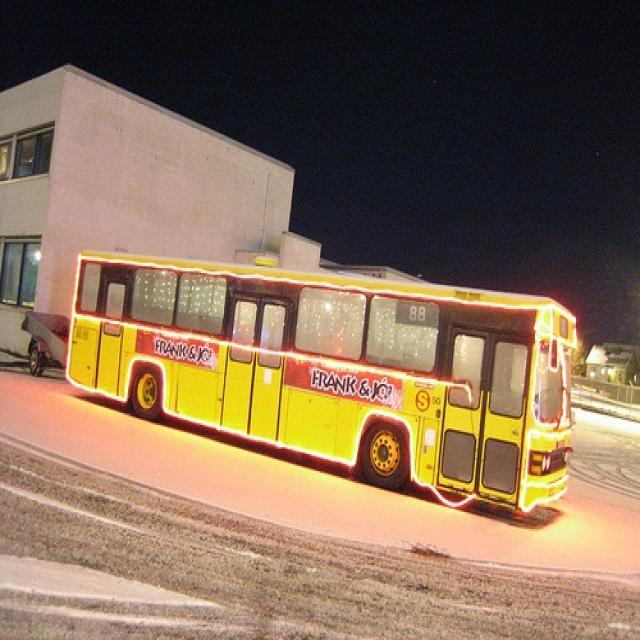bus: (64, 246, 580, 522)
